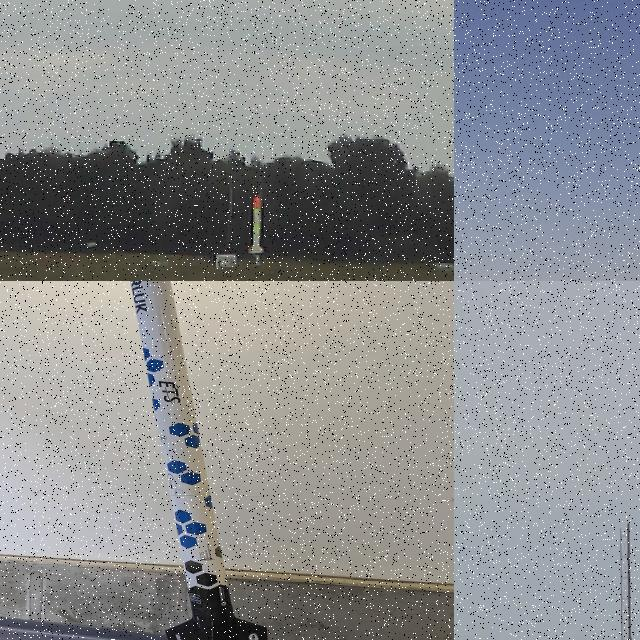Rocket: (129, 281, 267, 640), (248, 195, 265, 254)
